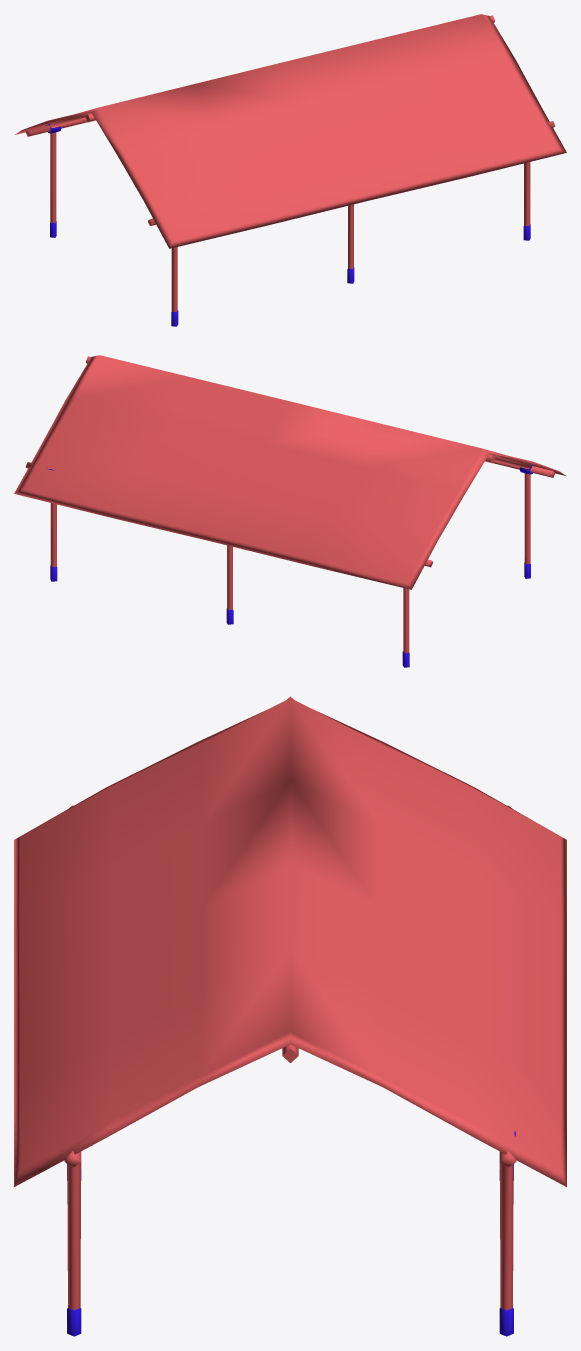
Rendered from SM_Tipairua_Fare.fbx.
3 views of the same model, one above another, from view 1: azimuth 30°, elevation 25°; view 2: azimuth 150°, elevation 25°; view 3: azimuth 270°, elevation 25° (orthographic). The views are drawn at different scales.
Visible parts, largest first — view 1: SM_TIpairua_Desk.001; view 2: SM_TIpairua_Desk.001; view 3: SM_TIpairua_Desk.001.
Boxes of the visible parts, box(x1,y1,x2,y2) form: SM_TIpairua_Desk.001: box(15, 14, 566, 326); SM_TIpairua_Desk.001: box(14, 355, 565, 667); SM_TIpairua_Desk.001: box(14, 696, 566, 1336).
Size of the model in its own units: 458 by 690 by 289.
